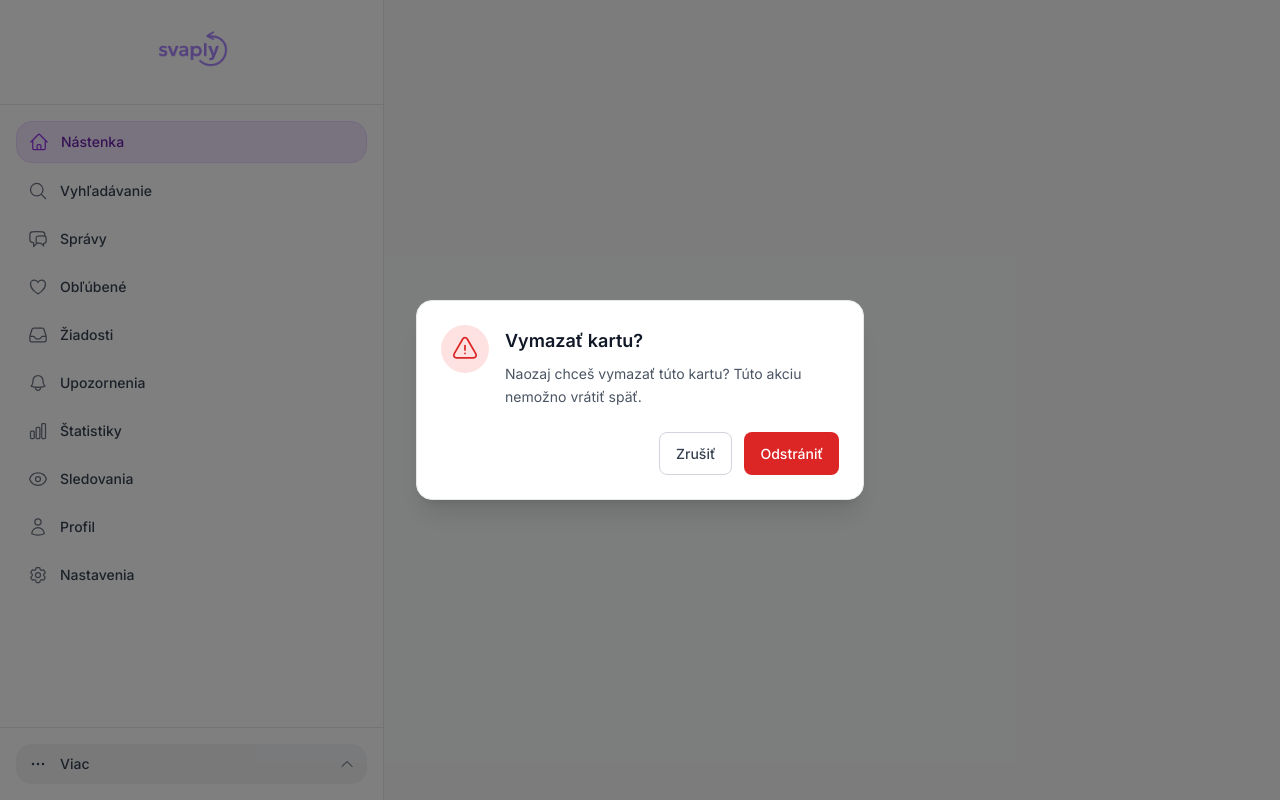
Test: mazanie vlastnej karty › tlačidlo Zrušiť okno zavrie bez mazania
The width and height of the screenshot is (1280, 800).
Click the button "Zrušiť" at x=696, y=454, box [659,432,732,475]
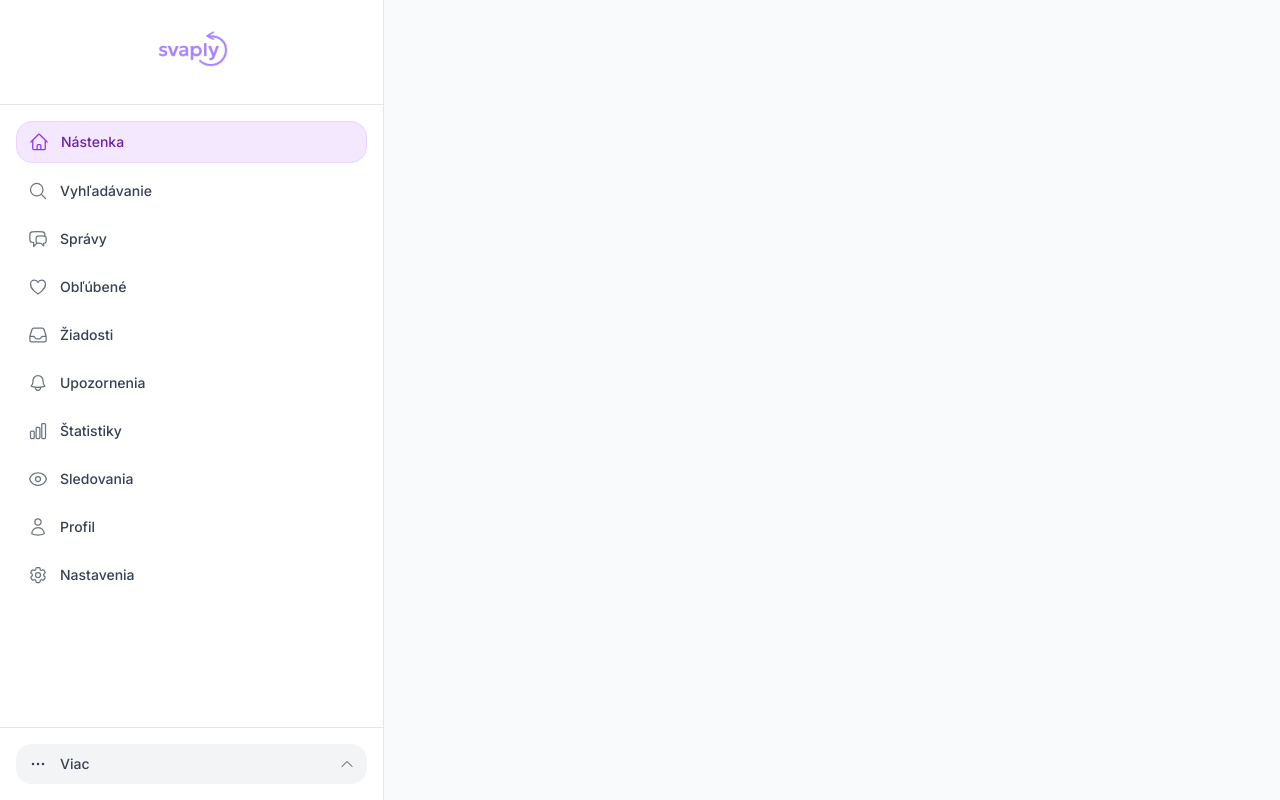
Expected: the dialog is gone
